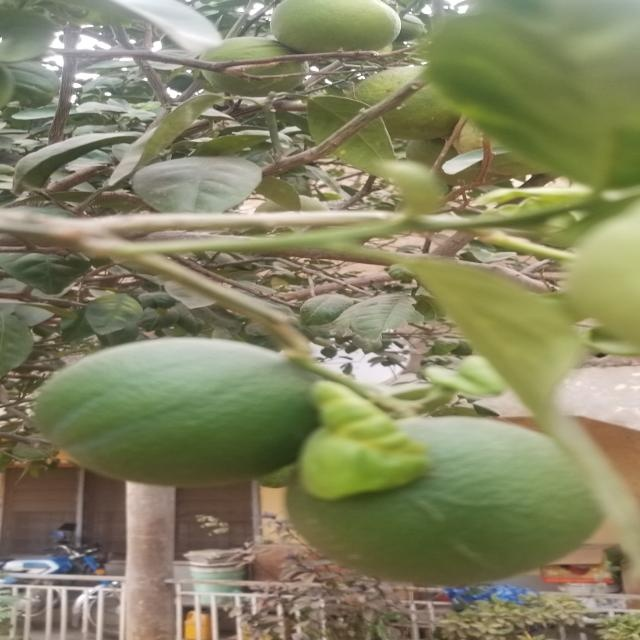agrume: (16, 332, 336, 495)
